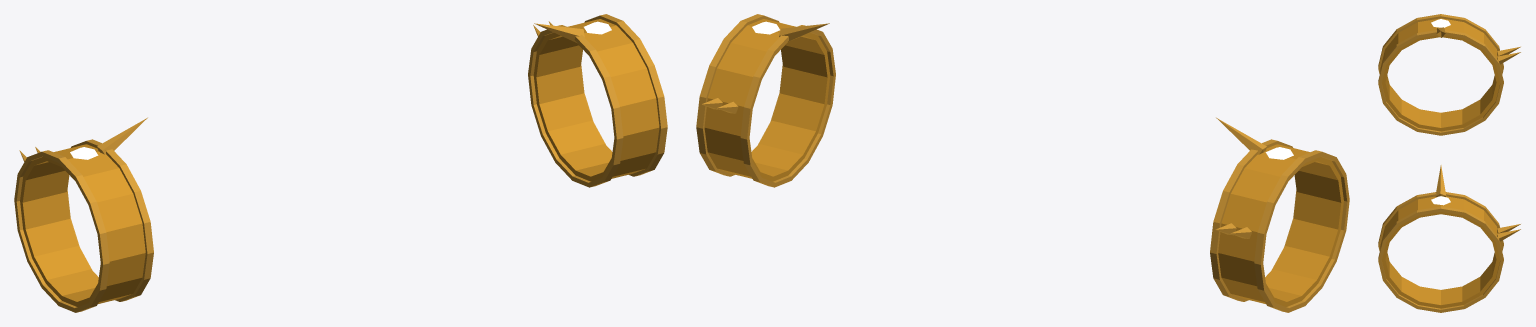
The model's file is armor_guard_arms_legendary_orc.glb.
3 renders of one model, left to right at view 1: azimuth 30°, elevation 25°; view 2: azimuth 150°, elevation 25°; view 3: azimuth 270°, elevation 25°, orthographic. The views are drawn at different scales.
Visible parts, largest first — view 1: armor_guard_arms_legendary_orc__lowerarm_r, armor_guard_arms_legendary_orc__lowerarm_l; view 2: armor_guard_arms_legendary_orc__lowerarm_r, armor_guard_arms_legendary_orc__lowerarm_l; view 3: armor_guard_arms_legendary_orc__lowerarm_l, armor_guard_arms_legendary_orc__lowerarm_r.
Part boxes in pixels (box(x1,y1,x2,y2)): armor_guard_arms_legendary_orc__lowerarm_r: box(14, 117, 153, 312); armor_guard_arms_legendary_orc__lowerarm_l: box(528, 14, 667, 187); armor_guard_arms_legendary_orc__lowerarm_r: box(1210, 117, 1349, 312); armor_guard_arms_legendary_orc__lowerarm_l: box(696, 14, 835, 187); armor_guard_arms_legendary_orc__lowerarm_l: box(1378, 165, 1520, 312); armor_guard_arms_legendary_orc__lowerarm_r: box(1378, 14, 1520, 135).
Bounding box in the file's own units: 119 × 33.73 × 37.22.
